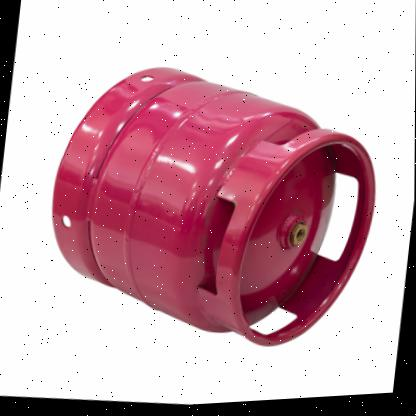gas-tank: (20, 25, 412, 388)
